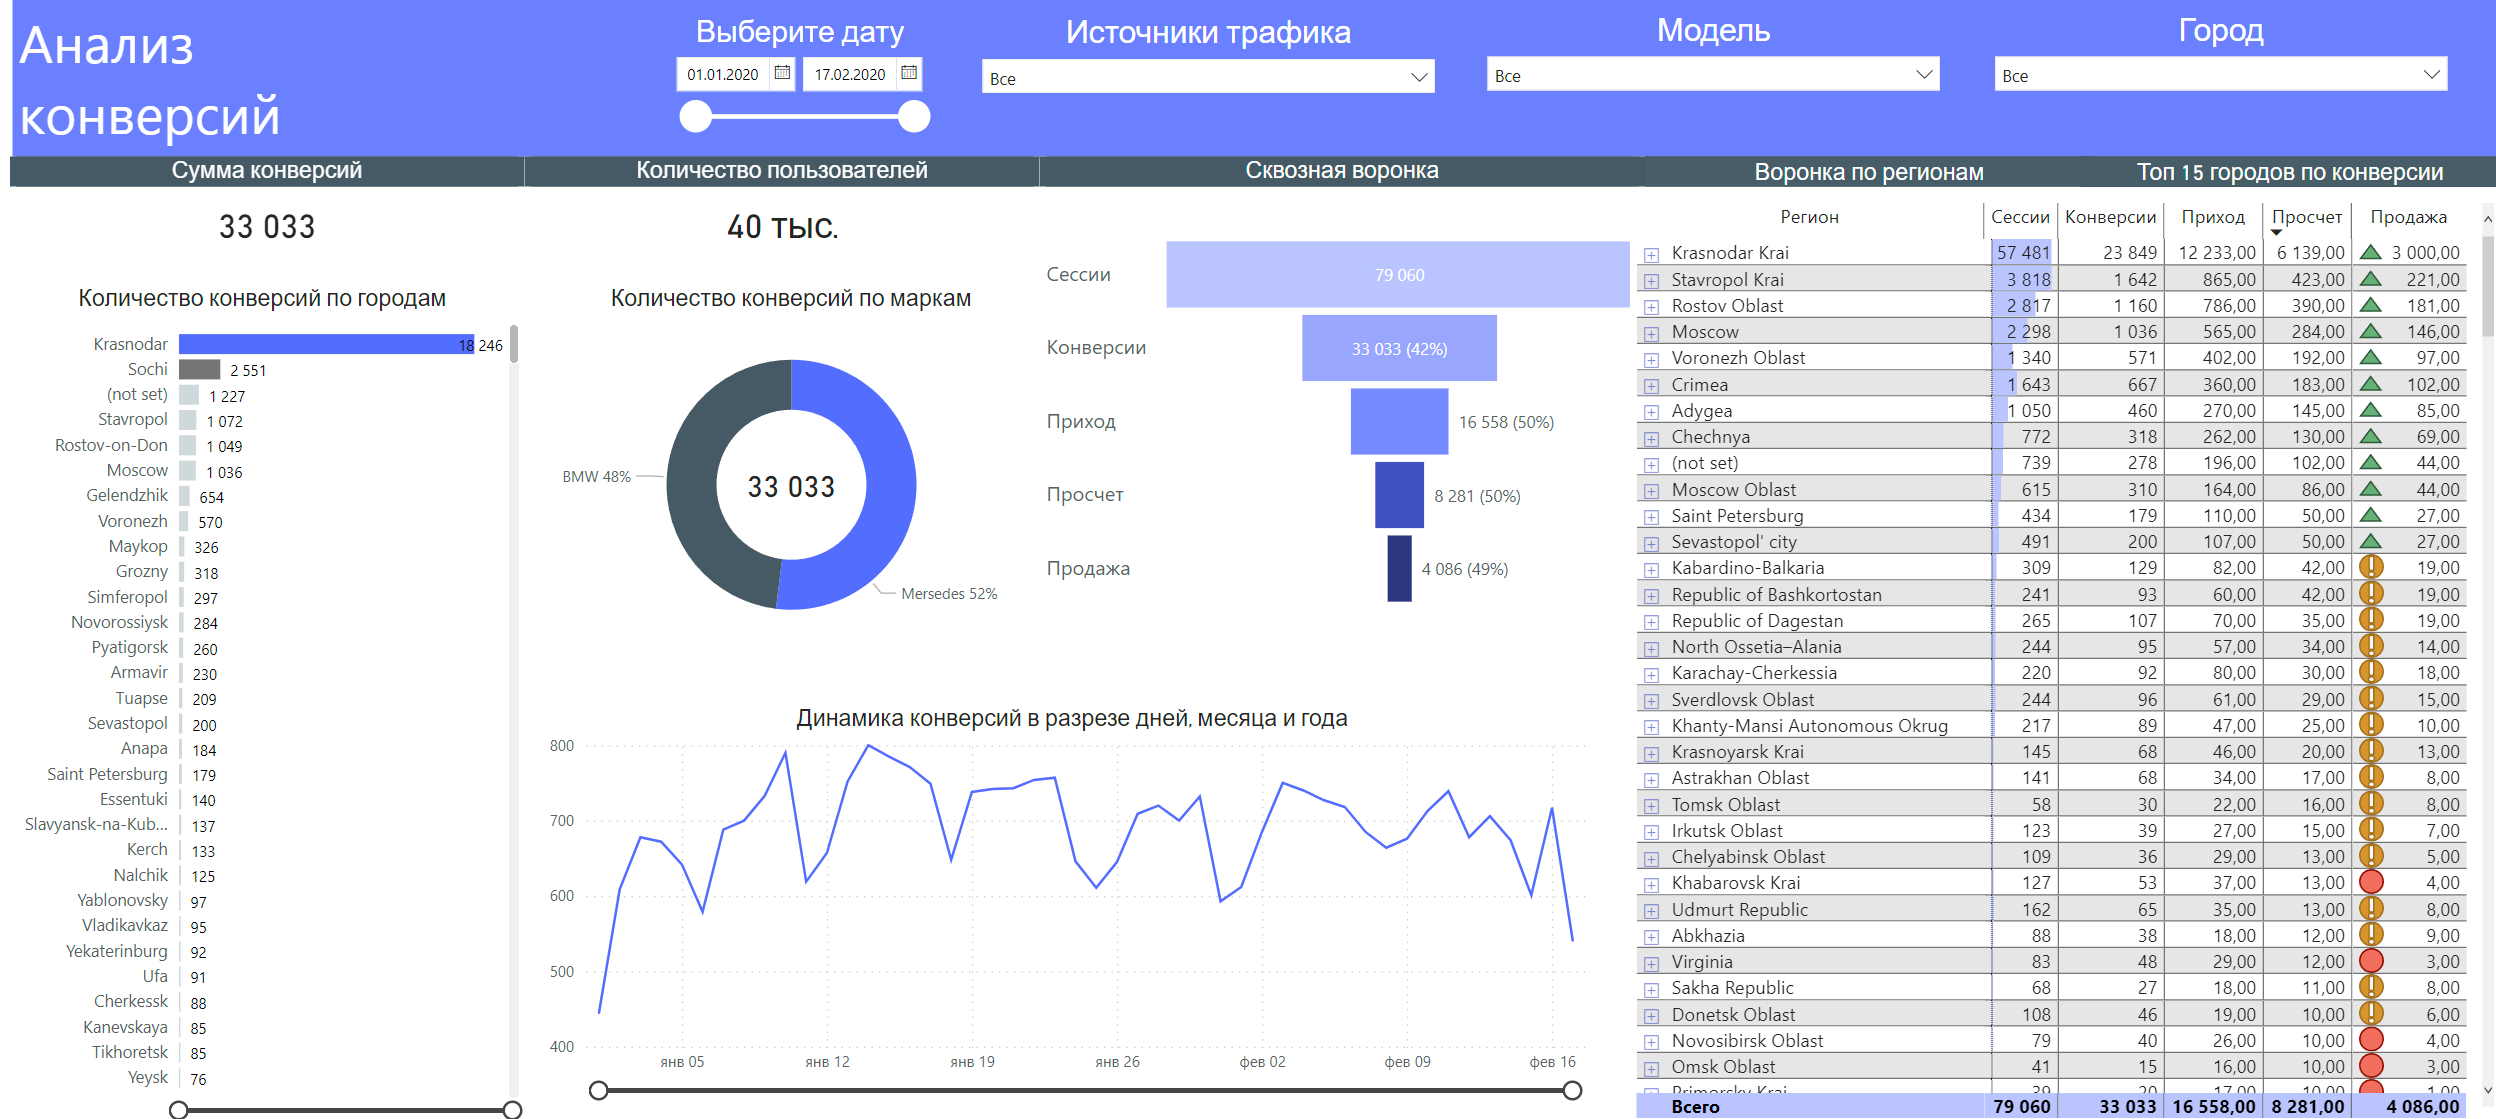

This screenshot's page, from the dashboard's own definition file:
{"tool":"powerbi","page":{"name":"Сквозная аналитика","canvas":[2000,900],"ordinal":0},"visuals":[{"type":"textbox","box":[10,0,1990,128],"z":0},{"type":"barChart","title":"Количество конверсий по городам","fields":{"Y":["Sum(Маркетинговые данные.Конверсия)"],"Category":["Маркетинговые данные.City"]},"box":[0,228,420,656],"z":1000},{"type":"lineChart","title":"Динамика конверсий в разрезе дней, месяца и года","fields":{"Y":["Sum(Маркетинговые данные.Конверсия)"],"Category":["Маркетинговые данные.Date.Изменение.Иерархия дат.Год","Маркетинговые данные.Date.Изменение.Иерархия дат.Месяц","Маркетинговые данные.Date.Изменение.Иерархия дат.День"]},"box":[434,564,848,320],"z":2000},{"type":"donutChart","title":"Количество конверсий по маркам","fields":{"Category":["Маркетинговые данные.Марка"],"Y":["Sum(Маркетинговые данные.Конверсия)"]},"box":[434,228,398,302],"z":3000},{"type":"card","fields":{"Values":["Sum(Маркетинговые данные.Конверсия)"]},"box":[576,288,114,202],"z":4000},{"type":"slicer","title":"Город","fields":{"Values":["Маркетинговые данные.Region","Маркетинговые данные.City"]},"box":[1586,10,382,128],"z":5000},{"type":"slicer","title":"Модель","fields":{"Values":["Маркетинговые данные.Марка"]},"box":[1180,10,382,128],"z":6000},{"type":"slicer","title":"Источники трафика","fields":{"Values":["Маркетинговые данные.Medium","Маркетинговые данные.Source","Маркетинговые данные.Campaign","Маркетинговые данные.Keyword"]},"box":[776,12,382,126],"z":7000},{"type":"slicer","title":" Выберите дату","fields":{"Values":["Маркетинговые данные.Date"]},"box":[527.1,12.9,224.3,101.4],"z":8000},{"type":"funnel","title":"Сквозная воронка","fields":{"Y":["Sum(Маркетинговые данные.Sessions)","Sum(Маркетинговые данные.Конверсия)","Sum(Данные из CRM.Приход к диллеру)","Sum(Данные из CRM.Просчет стоимости модели)","Sum(Данные из CRM.Продажа)"]},"box":[828.9,125.6,483.3,404.4],"z":9000},{"type":"card","title":"Сумма конверсий","fields":{"Values":["Sum(Маркетинговые данные.Конверсия)"]},"box":[10,126,410,90],"z":10000},{"type":"card","title":"Количество пользователей","fields":{"Values":["Count(Данные из CRM.Client ID)"]},"box":[419.4,125.9,411.8,90],"z":11000},{"type":"map","title":"Топ 15 городов по количеству конверсий","fields":{"Category":["Маркетинговые данные.City"],"Size":["Sum(Маркетинговые данные.Конверсия)"]},"box":[1312,126,688,774],"z":12000},{"type":"shape","box":[1312.2,125.6,358.9,24.4],"z":14000},{"type":"shape","box":[1663.3,125.6,336.7,24.4],"z":15000}]}

Visuals, with their boxes in screenshot pixels (x1, y1, x2, y2), scaled from the page's 2000x900 canvas onto the 2496x1119 screenshot:
textbox: BBox(12, 0, 2495, 159)
"Количество конверсий по городам" barChart: BBox(0, 283, 524, 1099)
"Динамика конверсий в разрезе дней, месяца и года" lineChart: BBox(542, 701, 1600, 1099)
"Количество конверсий по маркам" donutChart: BBox(542, 283, 1038, 659)
card - Sum(Маркетинговые данные.Конверсия): BBox(719, 358, 861, 609)
"Город" slicer: BBox(1979, 12, 2456, 172)
"Модель" slicer: BBox(1473, 12, 1949, 172)
"Источники трафика" slicer: BBox(968, 15, 1445, 172)
" Выберите дату" slicer: BBox(658, 16, 938, 142)
"Сквозная воронка" funnel: BBox(1034, 156, 1638, 659)
"Сумма конверсий" card: BBox(12, 157, 524, 269)
"Количество пользователей" card: BBox(523, 157, 1037, 268)
"Топ 15 городов по количеству конверсий" map: BBox(1637, 157, 2495, 1118)
shape: BBox(1638, 156, 2086, 186)
shape: BBox(2076, 156, 2495, 186)
